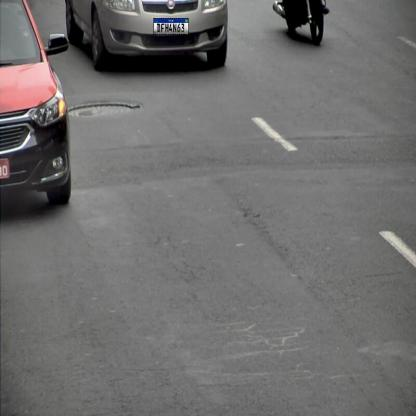PlacaM: (153, 18, 189, 35)
